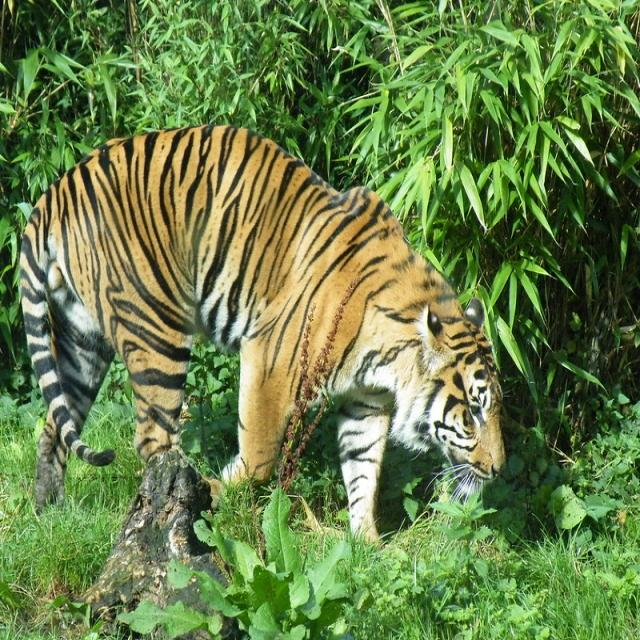Tiger: (17, 119, 507, 556)
